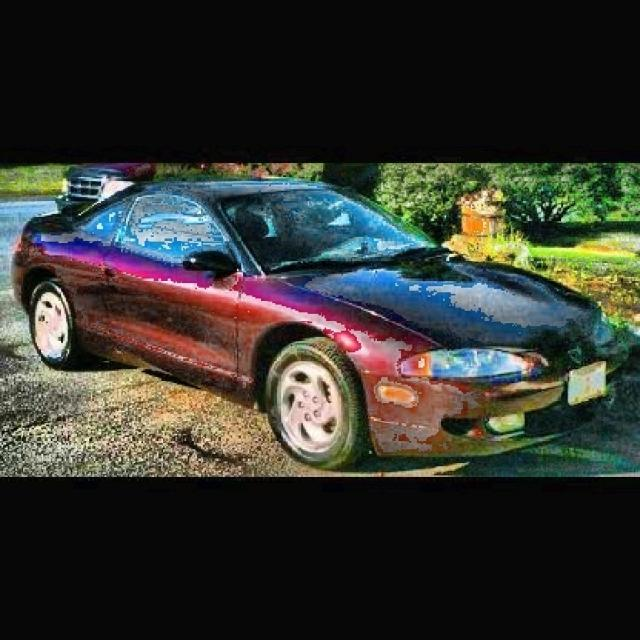maroon: (17, 175, 631, 459)
